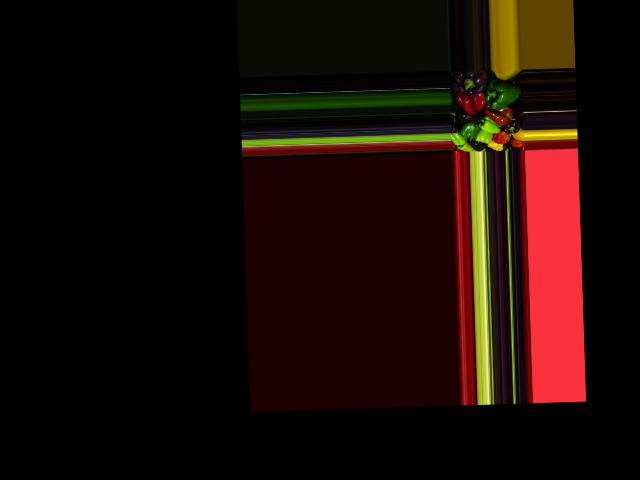bell_pepper: (502, 118, 522, 136)
